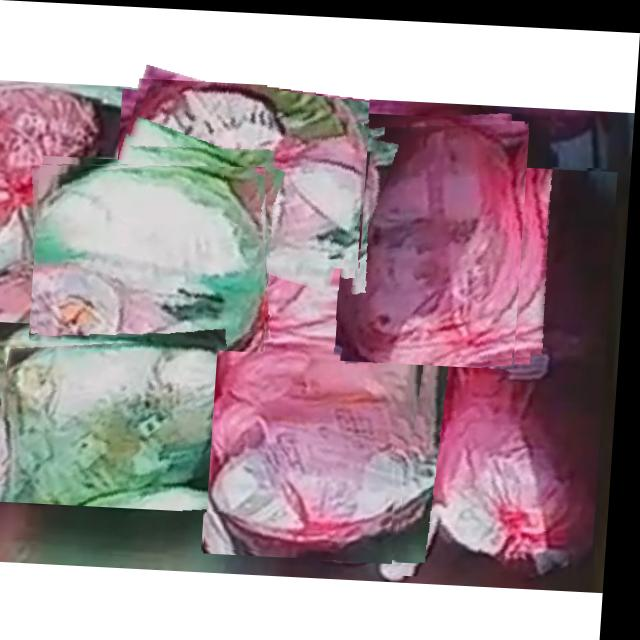general_trashbag: (39, 163, 269, 347), (5, 340, 221, 503)
other_trashbag: (400, 162, 617, 568), (217, 251, 424, 549), (129, 79, 368, 251), (353, 119, 523, 360)
